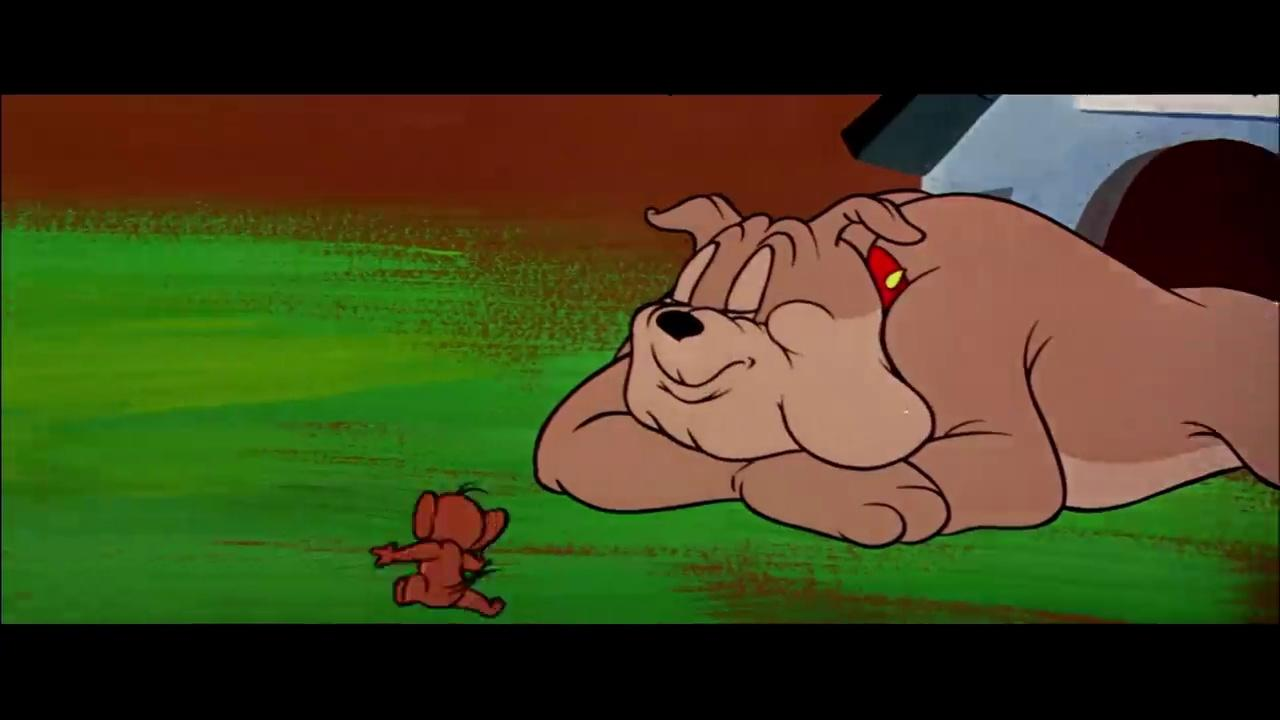Jerry: (368, 476, 512, 619)
